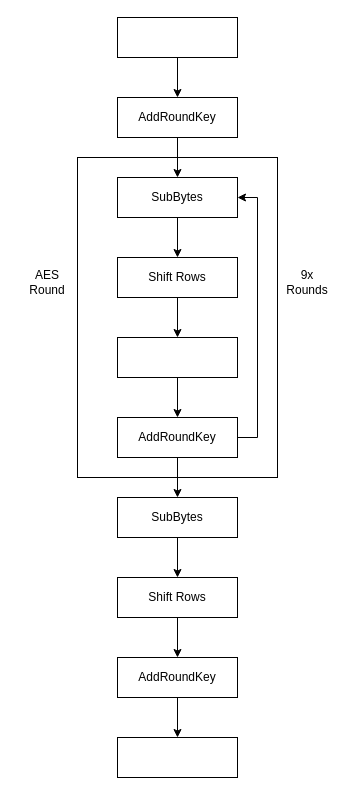
This 354x795 diagram has some shape labels left out. The shapes that lost their labels are listed below. From the top down, each one's box as (x1, y1, x2, y2) in pixels, then its label:
(116, 16, 238, 58): Plaintext
(116, 336, 238, 378): MixColumns
(116, 736, 238, 778): Ciphertext
